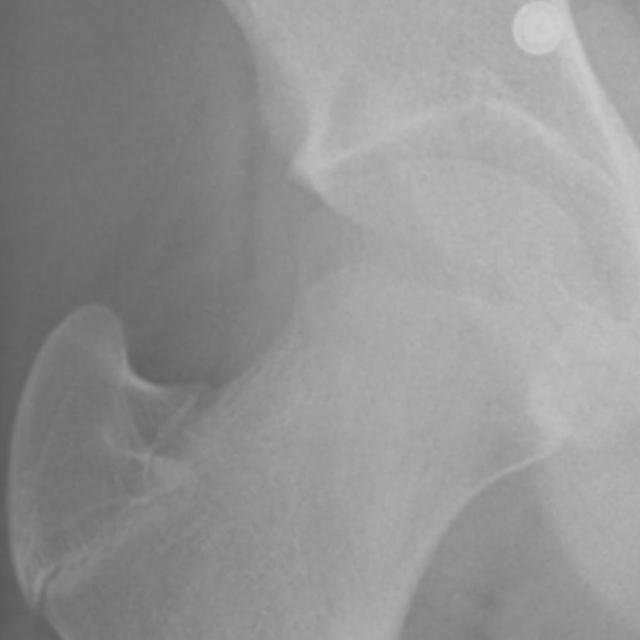Fitted_femural_head: (341, 154, 432, 341)
